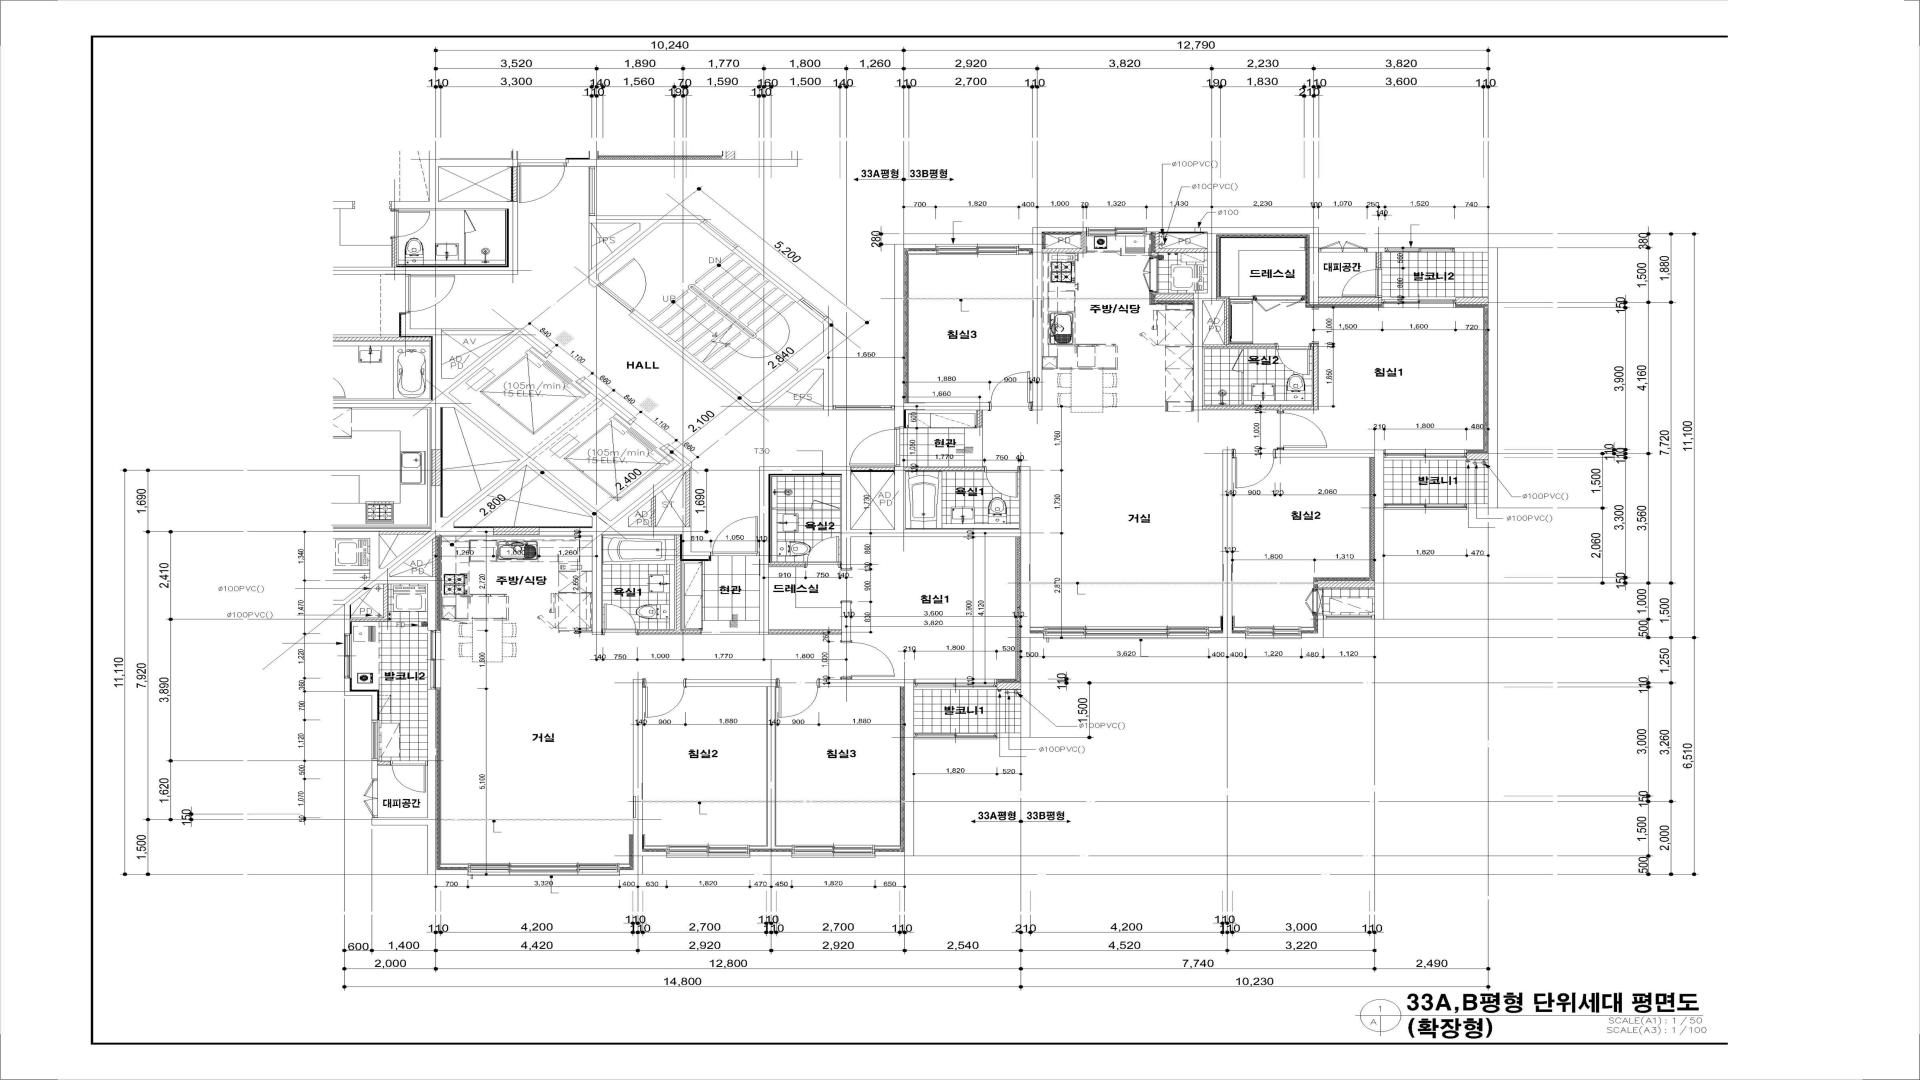door: (594, 258, 666, 315), (841, 641, 895, 679), (710, 516, 759, 556), (849, 428, 900, 466), (1277, 412, 1327, 450), (776, 679, 819, 719), (1232, 450, 1275, 489), (990, 371, 1033, 410), (643, 679, 686, 718), (1342, 268, 1382, 297), (391, 760, 427, 792), (984, 467, 1021, 498), (602, 604, 638, 635), (806, 536, 842, 567), (1276, 344, 1311, 375), (1253, 295, 1306, 312), (1142, 256, 1159, 293), (1304, 588, 1318, 615)
wall: (344, 313, 711, 635), (759, 466, 1044, 738), (1147, 227, 1319, 410), (628, 310, 833, 410), (1275, 450, 1384, 619), (372, 689, 468, 875), (894, 244, 990, 428), (819, 679, 914, 856), (685, 679, 776, 849), (401, 159, 518, 275), (1019, 227, 1086, 410), (1454, 247, 1498, 508), (620, 679, 666, 874), (589, 216, 706, 287), (1203, 342, 1319, 412), (1209, 450, 1246, 638), (637, 535, 702, 635), (732, 246, 804, 303), (1203, 296, 1276, 349), (769, 602, 851, 641), (575, 376, 636, 426), (592, 223, 640, 268), (769, 369, 824, 408), (350, 584, 389, 622), (344, 678, 378, 720), (1151, 232, 1207, 256), (1042, 232, 1086, 253), (1301, 615, 1324, 638), (1319, 297, 1382, 305), (904, 466, 985, 472), (1317, 581, 1374, 589), (685, 468, 691, 527), (493, 528, 539, 535), (1155, 293, 1193, 301), (851, 466, 894, 472), (1456, 297, 1488, 305), (566, 159, 597, 167), (769, 561, 806, 567), (750, 851, 792, 856), (432, 536, 437, 577), (997, 682, 1021, 690), (651, 496, 656, 527), (1466, 453, 1488, 460), (371, 760, 378, 779), (1375, 252, 1382, 268), (977, 410, 983, 427), (1367, 248, 1385, 252), (378, 761, 391, 766)
window: (1043, 627, 1209, 639), (468, 863, 620, 876), (699, 219, 738, 251), (666, 845, 750, 858), (792, 845, 875, 857), (914, 679, 997, 690), (936, 244, 1019, 255), (1383, 450, 1467, 460), (427, 630, 441, 689), (1382, 297, 1456, 308), (797, 298, 828, 323), (1245, 626, 1301, 639), (363, 779, 378, 818), (1086, 227, 1147, 236), (1319, 241, 1367, 252), (914, 733, 997, 739), (1384, 504, 1467, 510), (589, 167, 597, 216), (344, 634, 352, 678), (833, 405, 894, 410), (372, 720, 379, 760), (1385, 248, 1454, 252), (1323, 615, 1375, 619)
